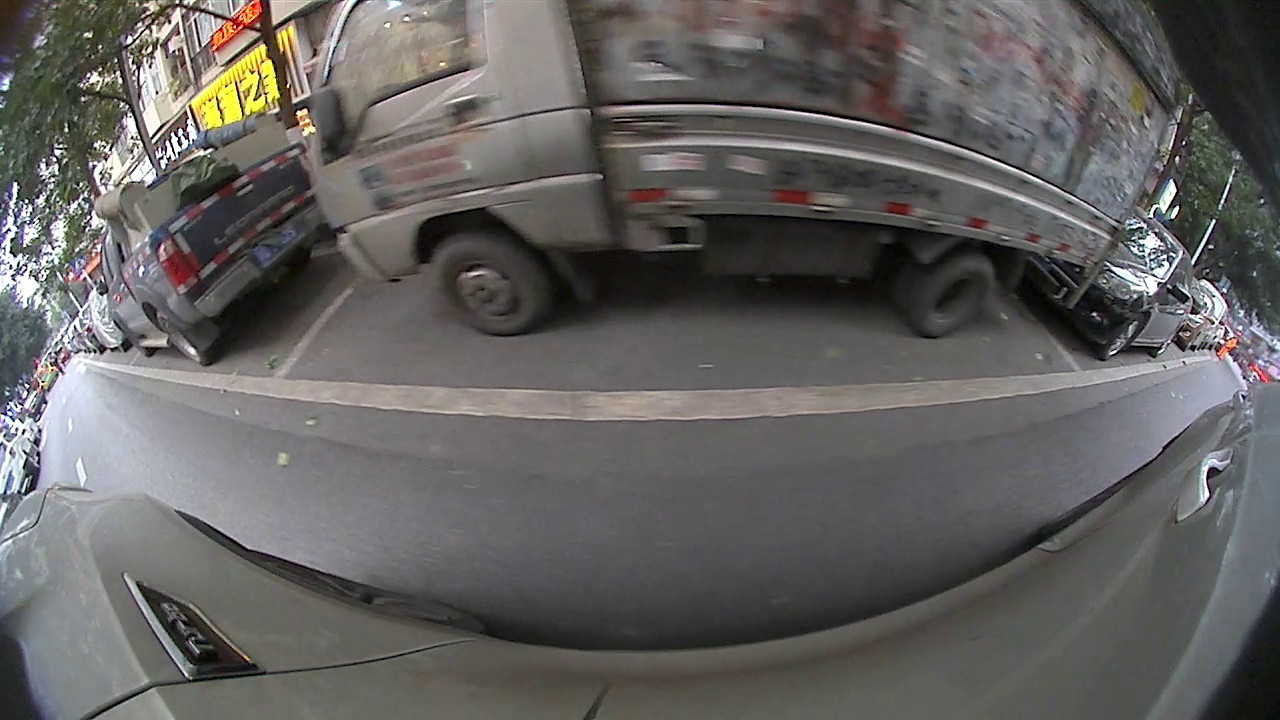car: (410, 1, 994, 353), (75, 105, 378, 343), (990, 184, 1165, 383), (30, 284, 86, 349)
front: (188, 257, 264, 342), (886, 281, 974, 354)
person: (301, 22, 414, 308), (977, 117, 1009, 225)
rear: (439, 222, 550, 326), (1065, 332, 1116, 381)
